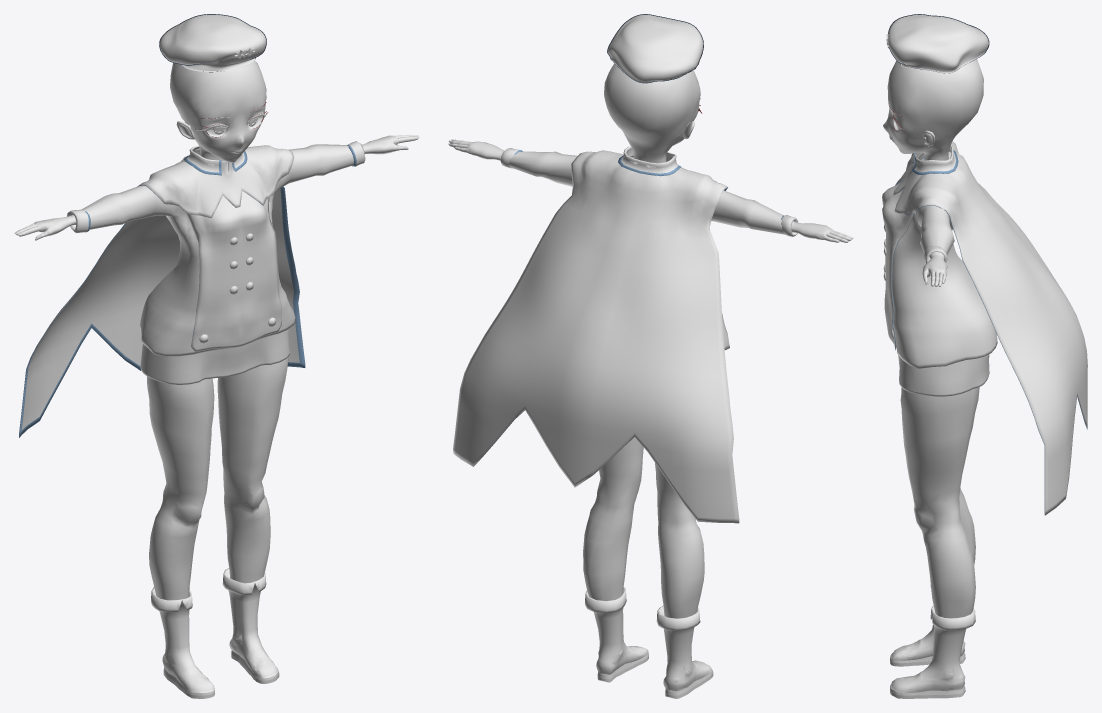
The model's file is Kuro Figure Mixamo try3.fbx.
3 views of the same model, side by side, from view 1: azimuth 30°, elevation 25°; view 2: azimuth 150°, elevation 25°; view 3: azimuth 270°, elevation 25° (orthographic).
Parts seen in each view (by area): view 1: Body; view 2: Body; view 3: Body.
Boxes of the visible parts, x1=… form: Body: x1=14, y1=14, x2=419, y2=698; Body: x1=448, y1=14, x2=853, y2=698; Body: x1=882, y1=14, x2=1087, y2=698.
Bounding box in the file's own units: 82.08 × 127 × 36.2.
